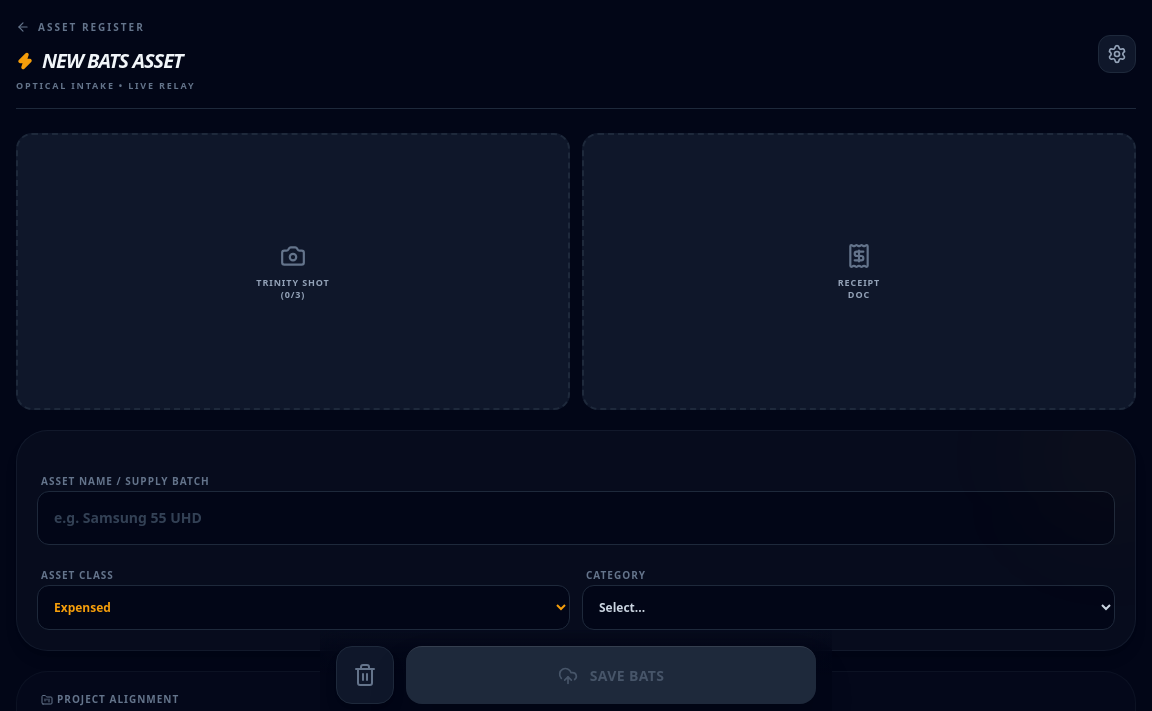
BATS intake UI › sends only canonical assetData fields in live mode
Type "Camera Body" into the field with placeholder "e.g. Samsung 55 UHD". click: x=576, y=518
box: [37, 491, 1115, 545]
Select "Visuals - Displays" in the dropdown below "Category". click: x=848, y=608
box: [582, 585, 1115, 630]
(page scrolled)
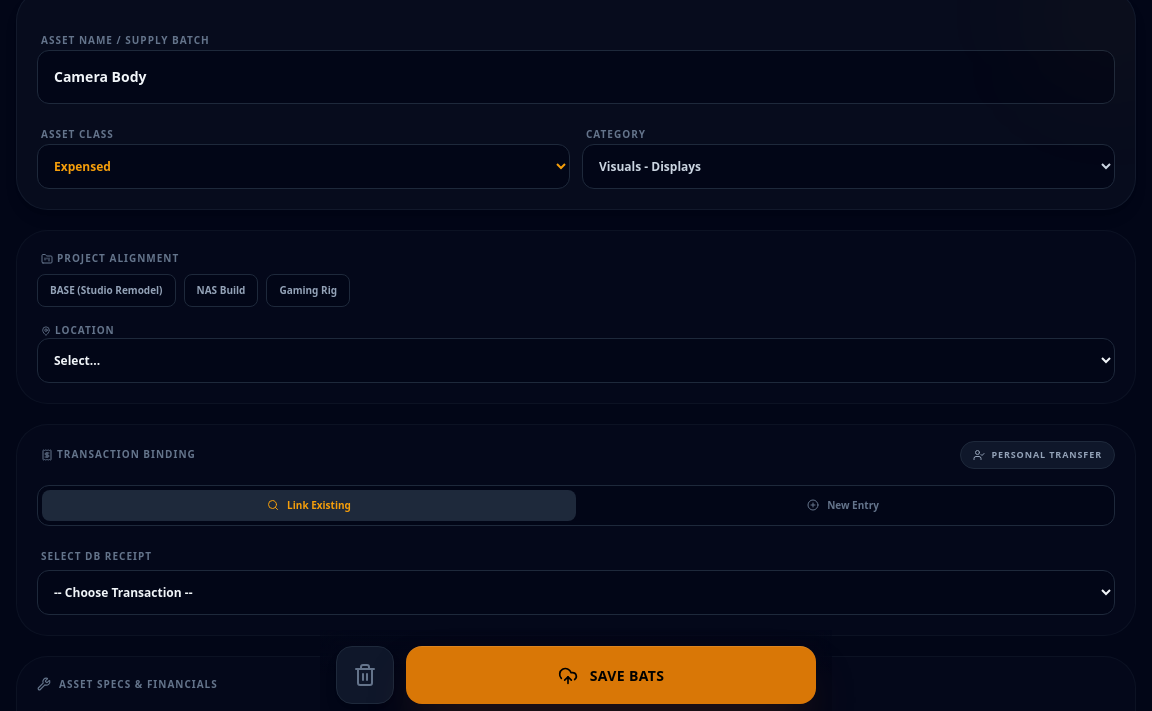
Select "Studio A" in the dropdown below "Location". click: x=576, y=360
box: [37, 338, 1115, 383]
(page scrolled)
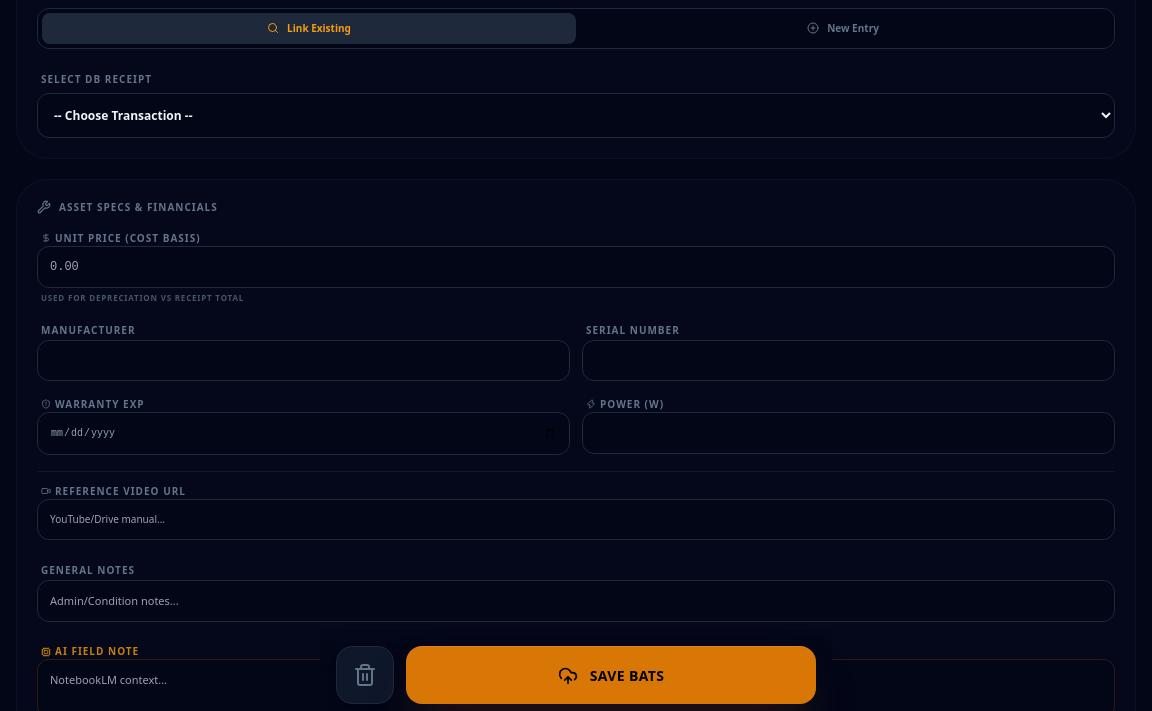
Type "PRIVATE-SERIAL" into the field below "Serial Number". click: x=848, y=360
box: [582, 340, 1115, 380]
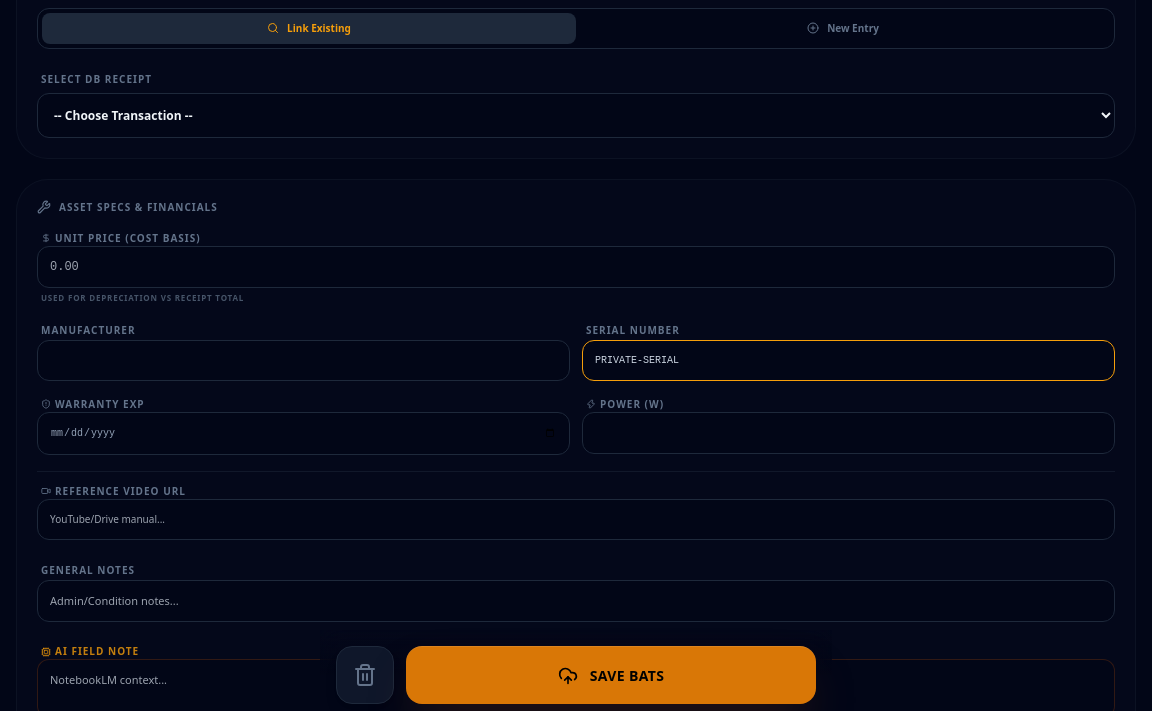
Type "1999.99" into the number field with placeholder "0.00". click: x=576, y=266
box: [37, 246, 1115, 288]
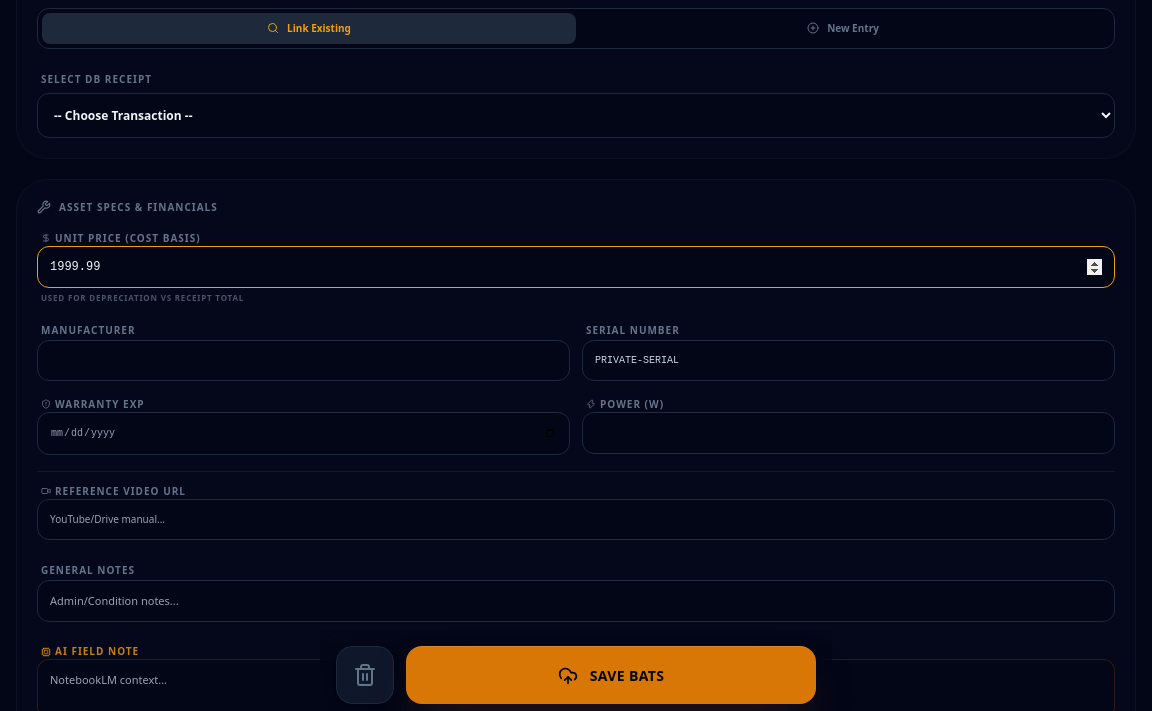
Type "Internal note" into the text box with placeholder "Admin/Condition notes...". click: x=576, y=601
box: [37, 580, 1115, 622]
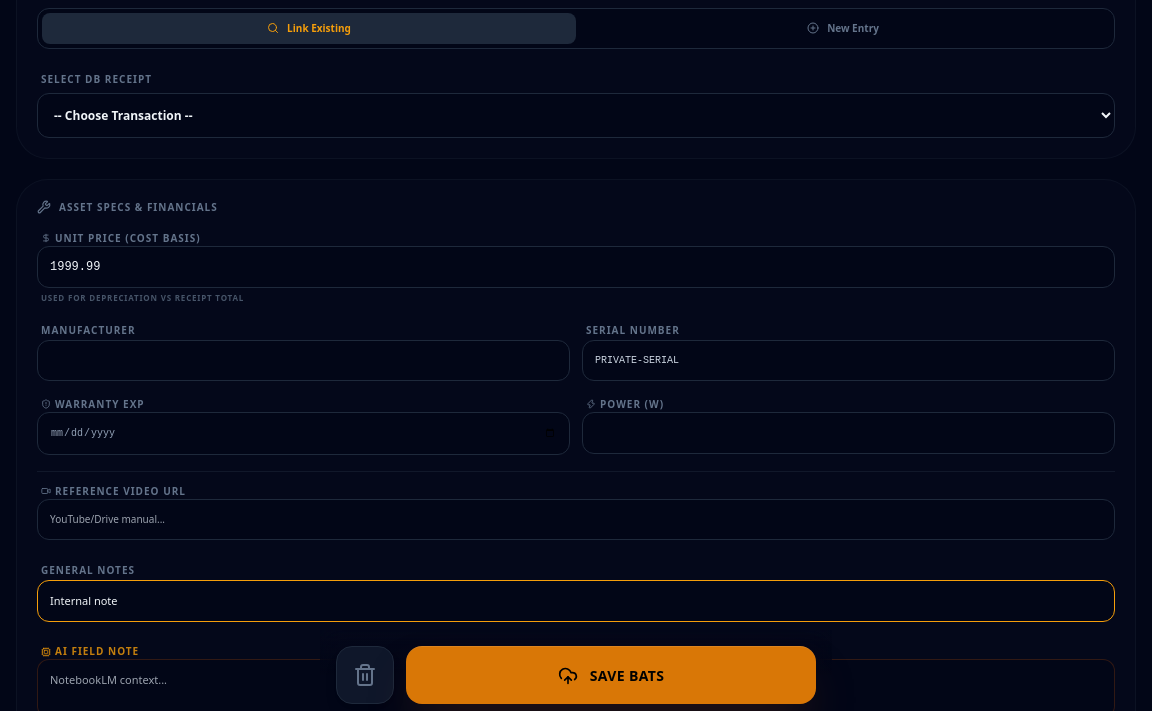
Click the button "SAVE BATS". click: x=611, y=675
box: [406, 646, 816, 704]
(page scrolled)
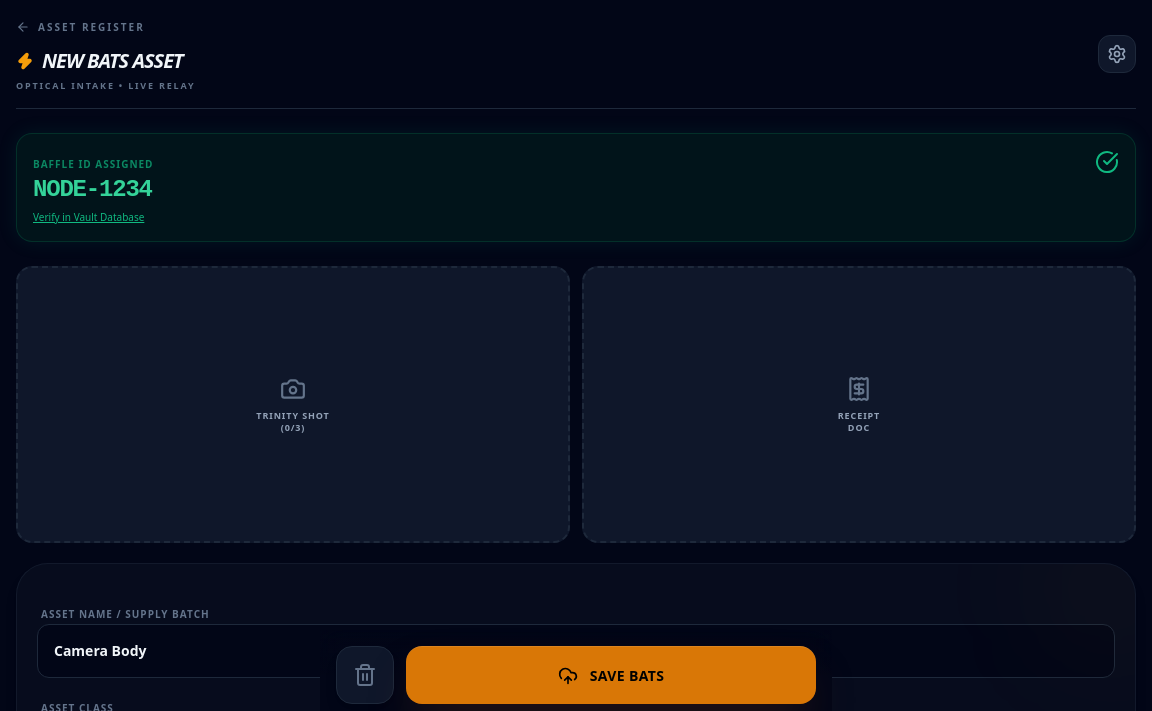
Now the text "NODE-1234" is shown, box [33, 174, 154, 206]
